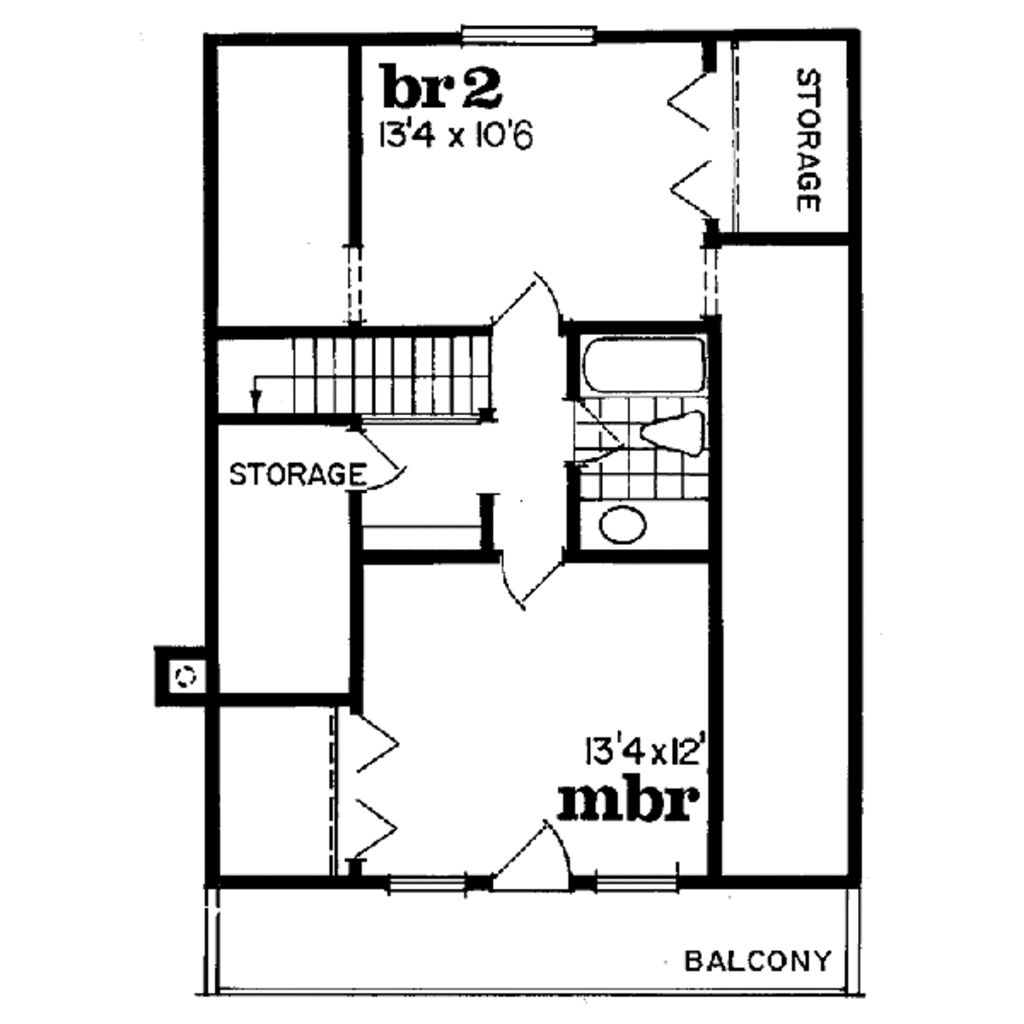door: (499, 819, 574, 890), (561, 393, 628, 466), (345, 430, 401, 508), (502, 546, 567, 608), (498, 270, 569, 320)
large_sink: (625, 409, 720, 462)
small_sink: (580, 500, 655, 546)
stairs: (207, 325, 491, 416)
tub: (583, 333, 701, 395)
window: (461, 16, 604, 47), (382, 865, 467, 897), (598, 873, 677, 897)
